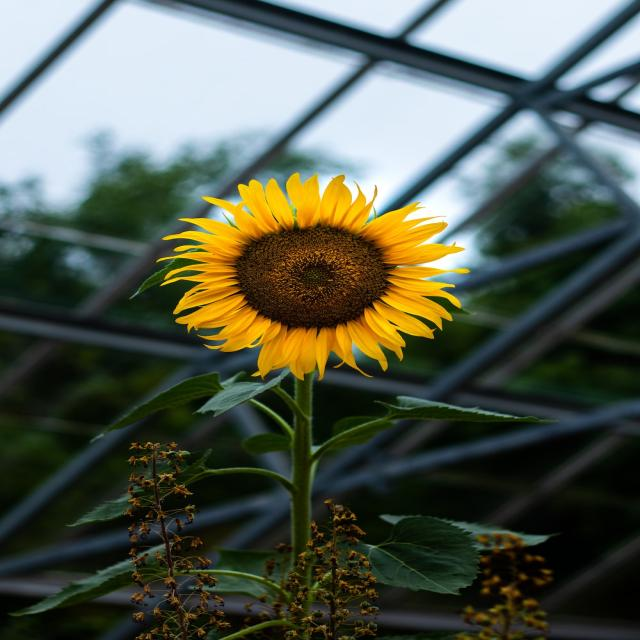sunflower: (151, 166, 479, 388)
